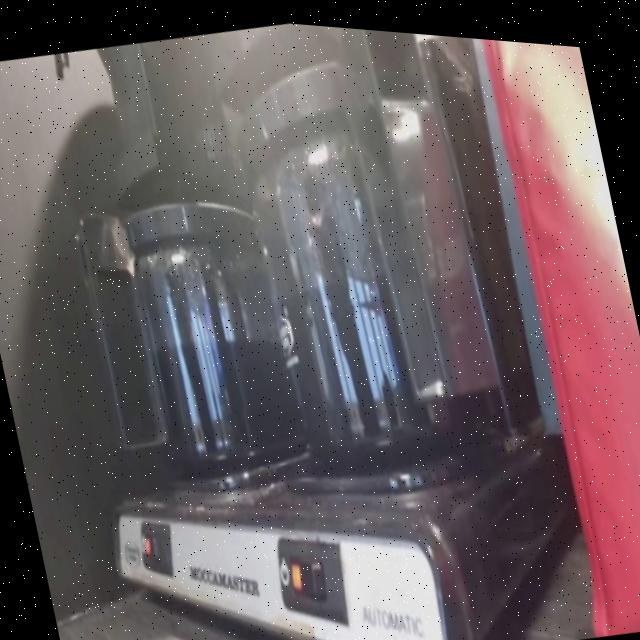coffee: (248, 145, 472, 476), (127, 242, 306, 473)
